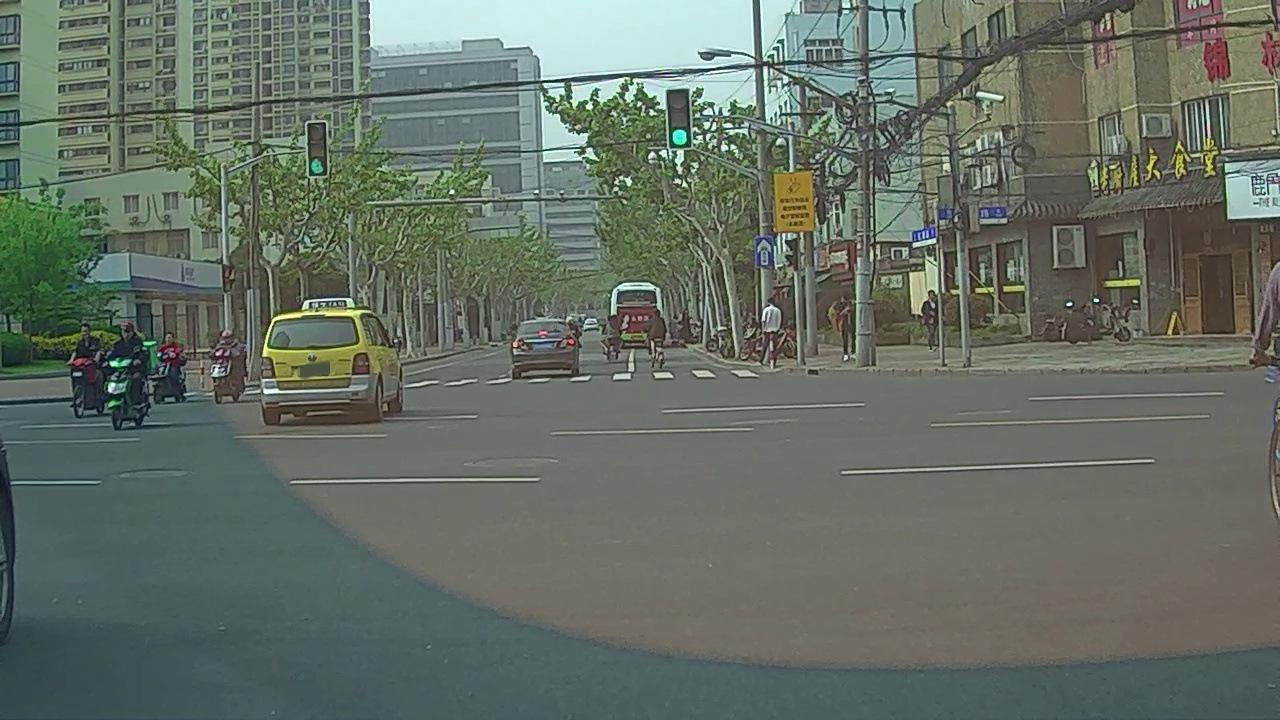traffic_light: (669, 89, 693, 148), (308, 119, 328, 175)
